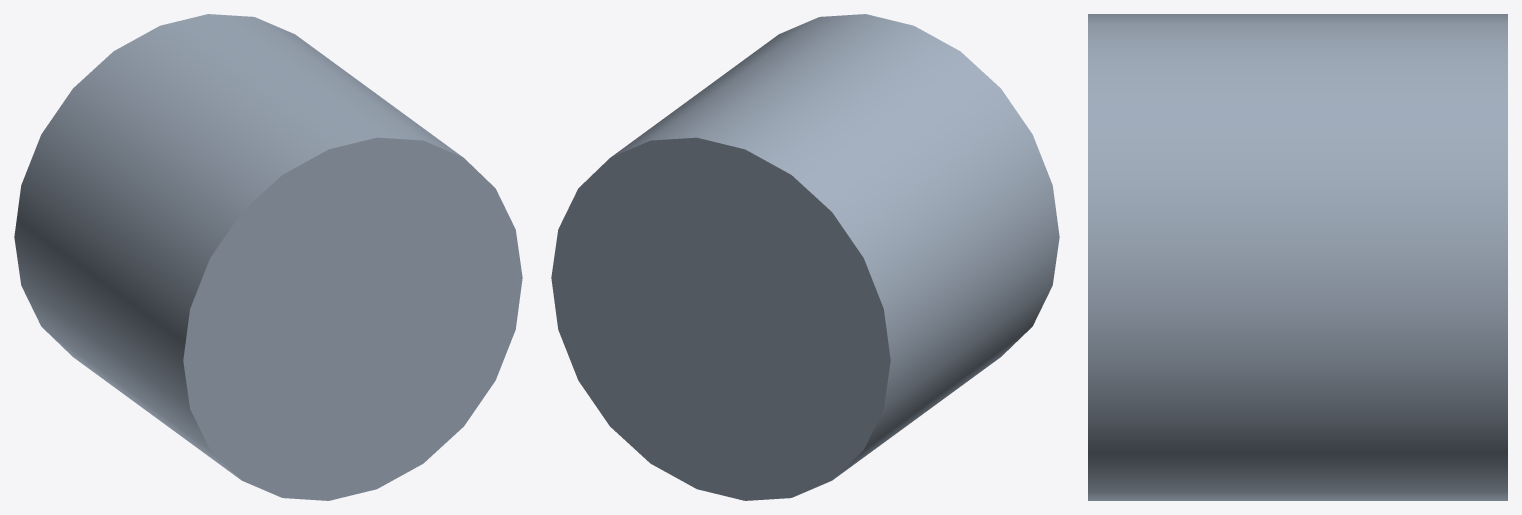
File: prt0001.obj
3 views of the same model, side by side, from view 1: azimuth 30°, elevation 25°; view 2: azimuth 150°, elevation 25°; view 3: azimuth 270°, elevation 25° (orthographic). The views are drawn at different scales.
Parts seen in each view (by area): view 1: 1; view 2: 1; view 3: 1.
Part boxes in pixels (left/top/right/bottom): 1: left=14, top=14, right=522, bottom=500; 1: left=551, top=14, right=1059, bottom=500; 1: left=1088, top=14, right=1507, bottom=500.
Bounding box in the file's own units: 251 × 249 × 217.
